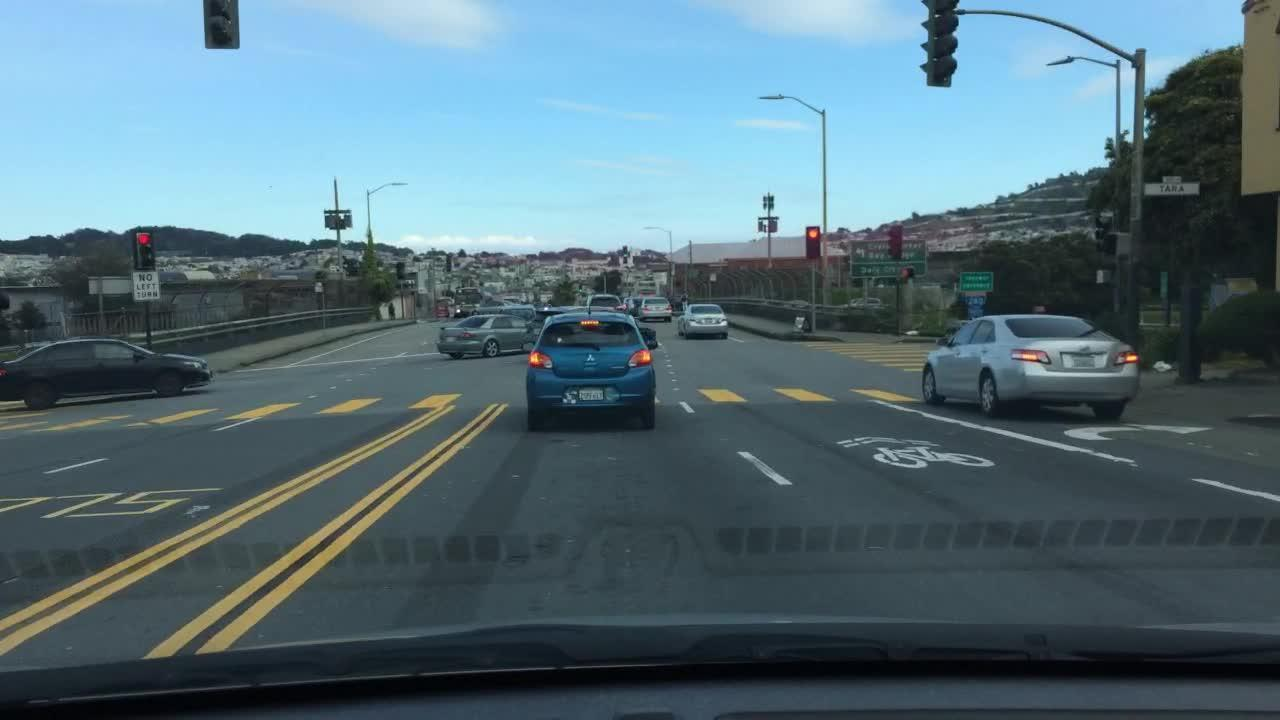Mitsubishi: (580, 349, 601, 364)
